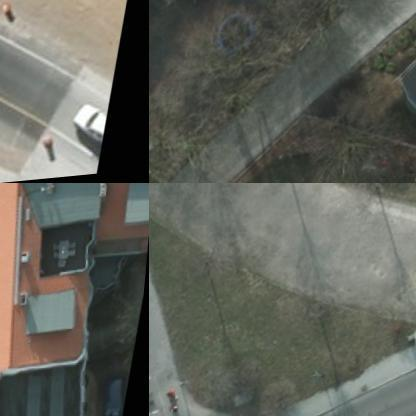car: (70, 98, 116, 161), (113, 384, 134, 415)
